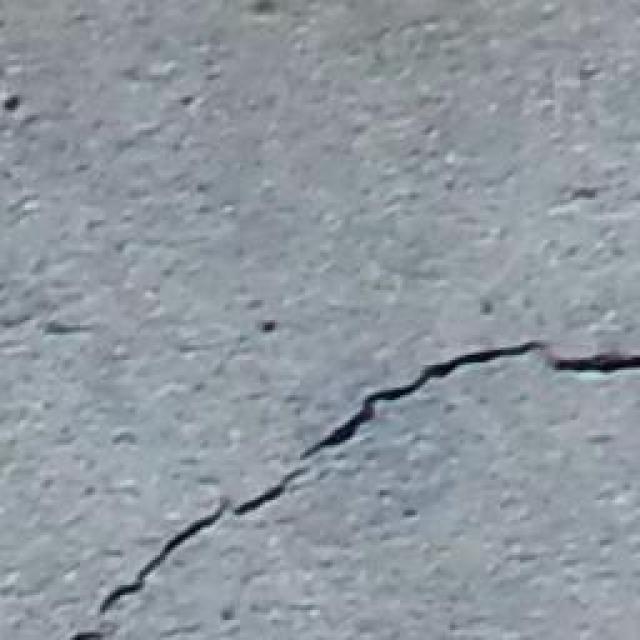concrete-crack: (68, 338, 640, 640)
